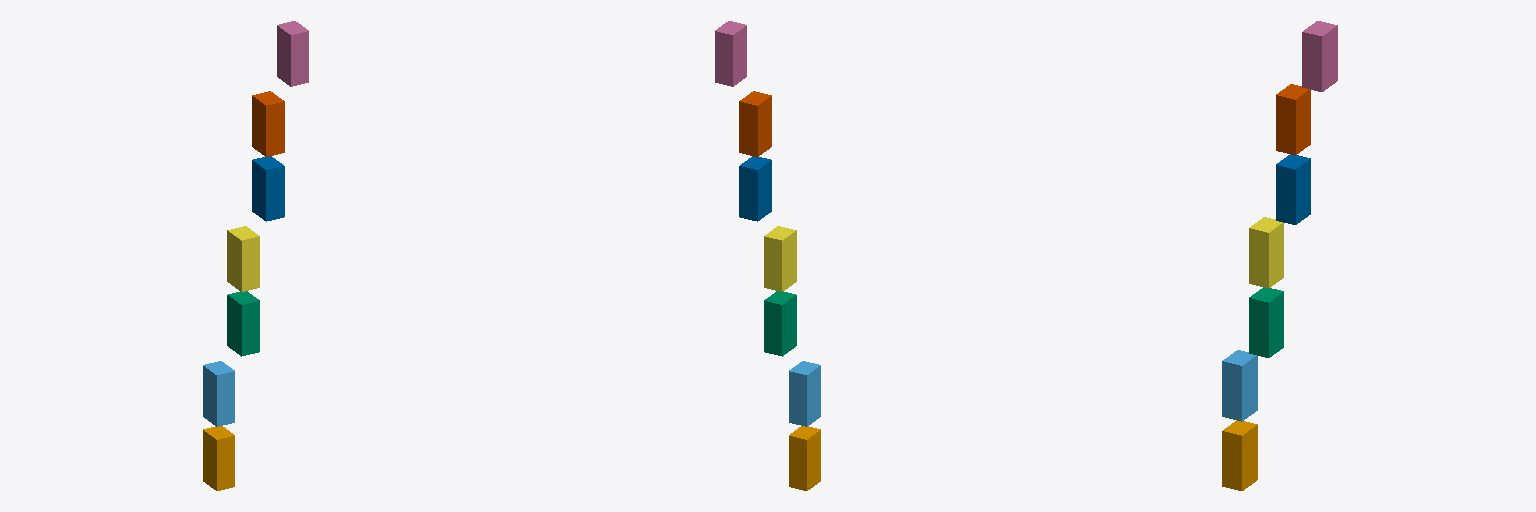
robot.urdf — AcceptanceRobot:
<?xml version="1.0"?>
<robot name="AcceptanceRobot">
<link name="link0">
<inertial><origin xyz="0 0 0.04"/><mass value="1"/><inertia ixx="0.002" iyy="0.002" izz="0.001" ixy="0" ixz="0" iyz="0"/></inertial>
<visual><origin xyz="0 0 0.04"/><geometry><box size="0.03 0.04 0.08"/></geometry></visual>
<collision><origin xyz="0 0 0.04"/><geometry><box size="0.03 0.04 0.08"/></geometry></collision>
</link>
<link name="link1">
<inertial><origin xyz="0 0 0.04"/><mass value="1"/><inertia ixx="0.002" iyy="0.002" izz="0.001" ixy="0" ixz="0" iyz="0"/></inertial>
<visual><origin xyz="0 0 0.04"/><geometry><box size="0.03 0.04 0.08"/></geometry></visual>
<collision><origin xyz="0 0 0.04"/><geometry><box size="0.03 0.04 0.08"/></geometry></collision>
</link>
<link name="link2">
<inertial><origin xyz="0 0 0.04"/><mass value="1"/><inertia ixx="0.002" iyy="0.002" izz="0.001" ixy="0" ixz="0" iyz="0"/></inertial>
<visual><origin xyz="0 0 0.04"/><geometry><box size="0.03 0.04 0.08"/></geometry></visual>
<collision><origin xyz="0 0 0.04"/><geometry><box size="0.03 0.04 0.08"/></geometry></collision>
</link>
<link name="link3">
<inertial><origin xyz="0 0 0.04"/><mass value="1"/><inertia ixx="0.002" iyy="0.002" izz="0.001" ixy="0" ixz="0" iyz="0"/></inertial>
<visual><origin xyz="0 0 0.04"/><geometry><box size="0.03 0.04 0.08"/></geometry></visual>
<collision><origin xyz="0 0 0.04"/><geometry><box size="0.03 0.04 0.08"/></geometry></collision>
</link>
<link name="link4">
<inertial><origin xyz="0 0 0.04"/><mass value="1"/><inertia ixx="0.002" iyy="0.002" izz="0.001" ixy="0" ixz="0" iyz="0"/></inertial>
<visual><origin xyz="0 0 0.04"/><geometry><box size="0.03 0.04 0.08"/></geometry></visual>
<collision><origin xyz="0 0 0.04"/><geometry><box size="0.03 0.04 0.08"/></geometry></collision>
</link>
<link name="link5">
<inertial><origin xyz="0 0 0.04"/><mass value="1"/><inertia ixx="0.002" iyy="0.002" izz="0.001" ixy="0" ixz="0" iyz="0"/></inertial>
<visual><origin xyz="0 0 0.04"/><geometry><box size="0.03 0.04 0.08"/></geometry></visual>
<collision><origin xyz="0 0 0.04"/><geometry><box size="0.03 0.04 0.08"/></geometry></collision>
</link>
<link name="link6">
<inertial><origin xyz="0 0 0.04"/><mass value="1"/><inertia ixx="0.002" iyy="0.002" izz="0.001" ixy="0" ixz="0" iyz="0"/></inertial>
<visual><origin xyz="0 0 0.04"/><geometry><box size="0.03 0.04 0.08"/></geometry></visual>
<collision><origin xyz="0 0 0.04"/><geometry><box size="0.03 0.04 0.08"/></geometry></collision>
</link>
<joint name="joint1" type="revolute"><parent link="link0"/><child link="link1"/>
<origin xyz="0 0 0.10" rpy="0 0 0"/><axis xyz="0 0 1"/><limit lower="-2" upper="2" effort="100" velocity="1"/></joint>
<joint name="joint2" type="revolute"><parent link="link1"/><child link="link2"/>
<origin xyz="0.04 0 0.10" rpy="0 0 0"/><axis xyz="0 1 0"/><limit lower="-2" upper="2" effort="100" velocity="1"/></joint>
<joint name="joint3" type="revolute"><parent link="link2"/><child link="link3"/>
<origin xyz="0 0 0.10" rpy="0 0 0"/><axis xyz="0 1 0"/><limit lower="-2" upper="2" effort="100" velocity="1"/></joint>
<joint name="joint4" type="revolute"><parent link="link3"/><child link="link4"/>
<origin xyz="0.04 0 0.10" rpy="0 0 0"/><axis xyz="1 0 0"/><limit lower="-2" upper="2" effort="100" velocity="1"/></joint>
<joint name="joint5" type="revolute"><parent link="link4"/><child link="link5"/>
<origin xyz="0 0 0.10" rpy="0 0 0"/><axis xyz="0 1 0"/><limit lower="-2" upper="2" effort="100" velocity="1"/></joint>
<joint name="joint6" type="revolute"><parent link="link5"/><child link="link6"/>
<origin xyz="0.04 0 0.10" rpy="0 0 0"/><axis xyz="1 0 0"/><limit lower="-2" upper="2" effort="100" velocity="1"/></joint>
</robot>

--- Facts derived from the render (not from the file) ---
The picture shows the robot from 3 angles, left to right: view 1: azimuth 30°, elevation 25°; view 2: azimuth 150°, elevation 25°; view 3: azimuth 330°, elevation 25°; orthographic projection.
Robot: AcceptanceRobot — 7 links, 6 joints (6 revolute); root link link0; default pose: every joint at zero.
Visible links, largest first — view 1: link3, link5, link2, link4, link6, link1, link0; view 2: link3, link5, link2, link4, link6, link1, link0; view 3: link6, link0, link1, link2, link4, link3, link5.
Boxes of the visible links, box(x1,y1,x2,y2) form: link3: box(227, 226, 259, 291); link5: box(252, 91, 284, 156); link2: box(227, 291, 259, 356); link4: box(252, 156, 284, 221); link6: box(277, 21, 308, 86); link1: box(203, 361, 234, 426); link0: box(203, 426, 234, 490); link3: box(764, 226, 796, 291); link5: box(739, 91, 771, 156); link2: box(764, 291, 796, 356); link4: box(739, 156, 771, 221); link6: box(715, 21, 746, 86); link1: box(789, 361, 820, 426); link0: box(789, 426, 820, 490); link6: box(1302, 21, 1337, 91); link0: box(1222, 420, 1257, 490); link1: box(1222, 350, 1257, 421); link2: box(1249, 287, 1283, 357); link4: box(1276, 154, 1310, 224); link3: box(1249, 217, 1283, 288); link5: box(1276, 84, 1310, 155).
Bounding box of the posed robot: 0.15 × 0.04 × 0.68 m (x, y, z).
Geometry: primitives only (box / cylinder / sphere), no mesh files.
